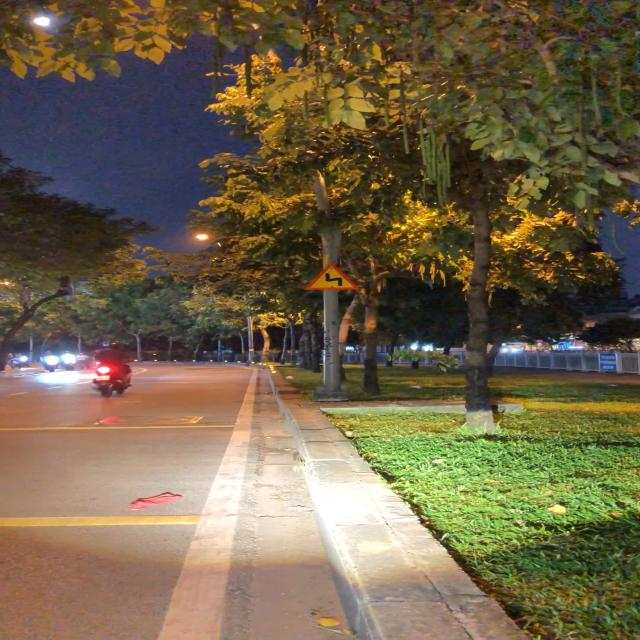Bien bao nhieu cho ngoat nguy hiem lien tiep: (301, 262, 362, 291)
